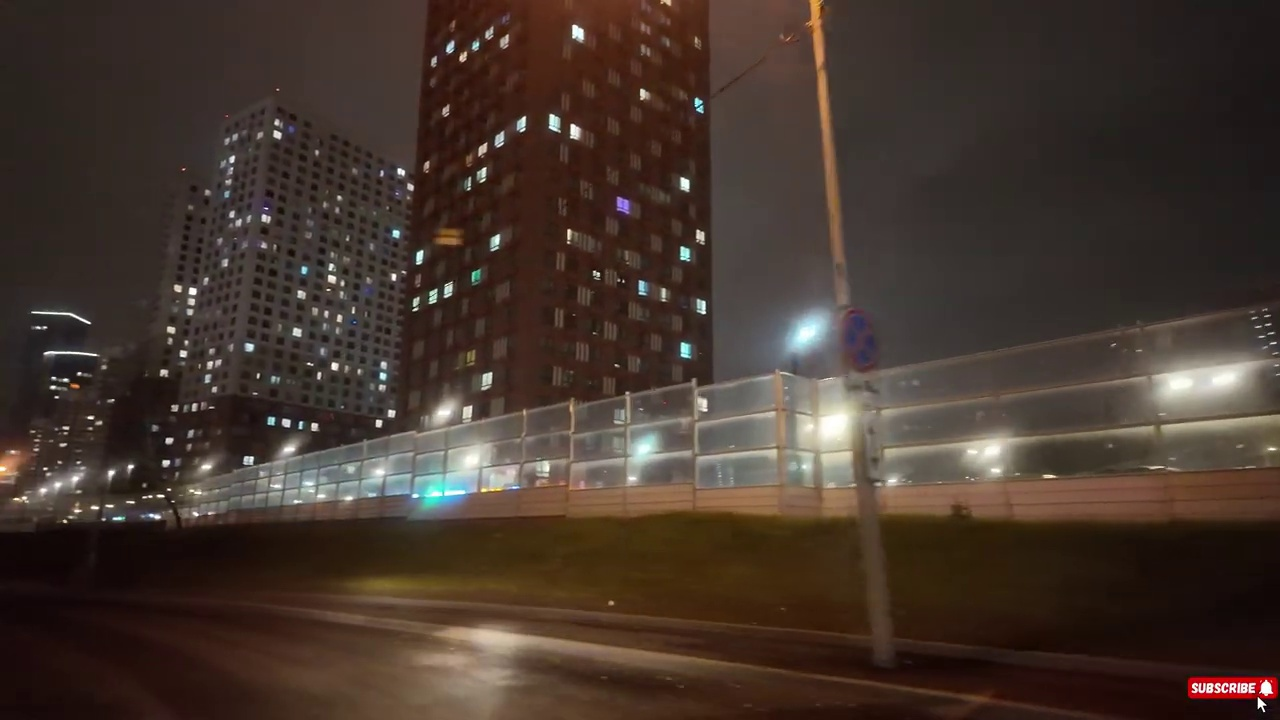acesa: (786, 311, 836, 360)
